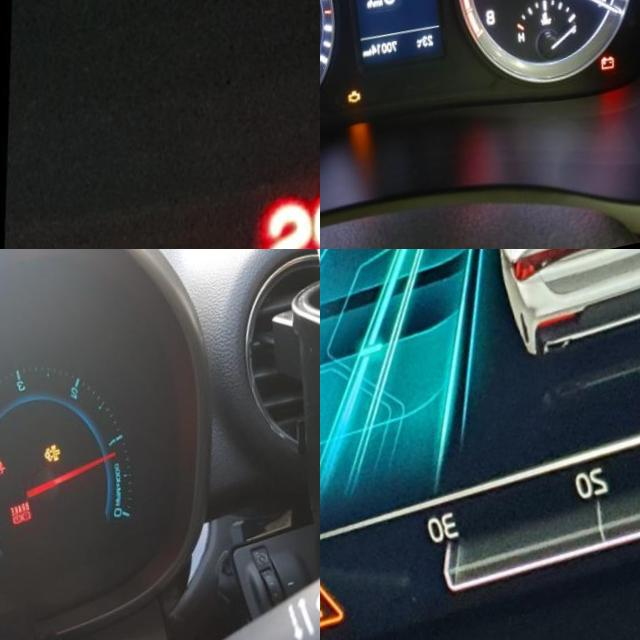Central Warning lamp: (320, 572, 335, 640)
